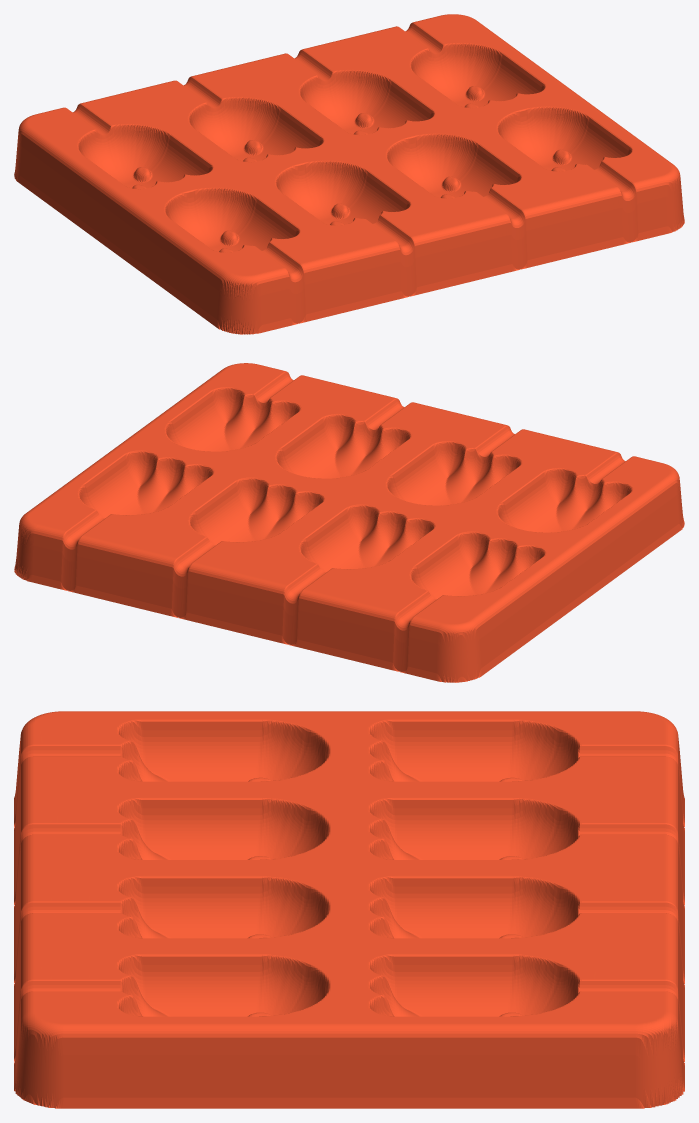
File: mold.glb
The picture shows the model from 3 angles, top to bottom: view 1: azimuth 30°, elevation 25°; view 2: azimuth 150°, elevation 25°; view 3: azimuth 270°, elevation 25°; orthographic projection. The views are drawn at different scales.
Visible parts, largest first — view 1: geometry_0; view 2: geometry_0; view 3: geometry_0.
Boxes of the visible parts, bbox=[...] form: geometry_0: bbox=[14, 14, 684, 334]; geometry_0: bbox=[14, 363, 684, 682]; geometry_0: bbox=[14, 711, 684, 1108].
Size of the model in its own units: 0.1421 by 0.0155 by 0.1229.
